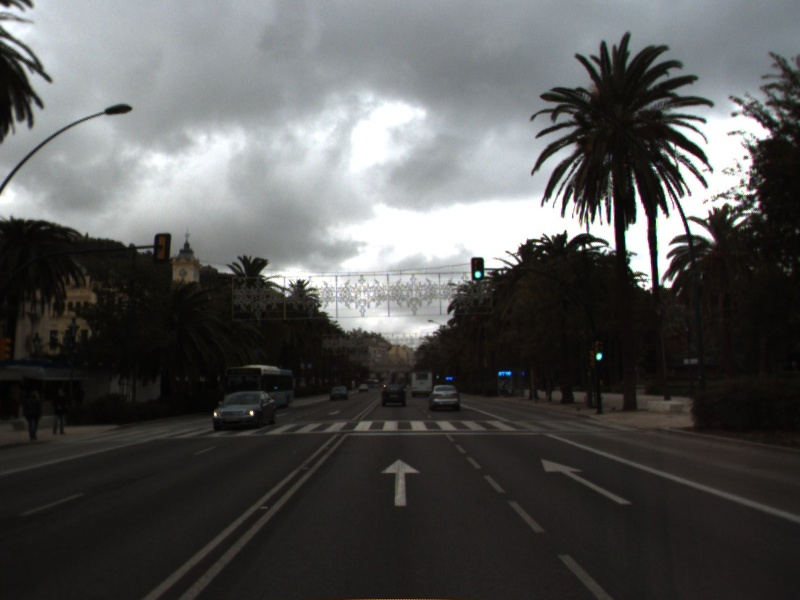STRAIGHT: (539, 457, 635, 506), (378, 457, 422, 508)
